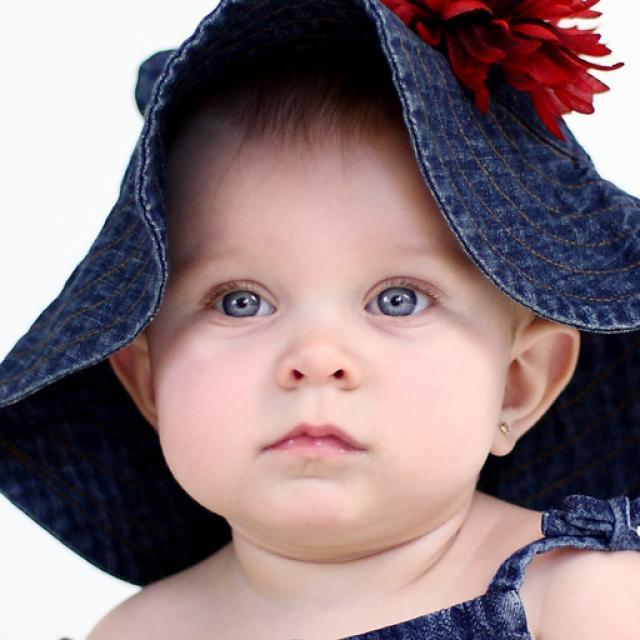neutral: (151, 72, 512, 565)
